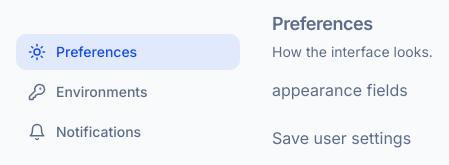
SettingsLayout › switches sections on click
The width and height of the screenshot is (449, 165).
Step 1. Click the button "Environments" → (128, 92), box 16,74 -> 240,110
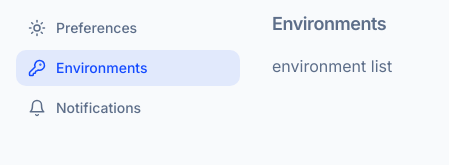
Expected: the text "environment list" is shown, 272,56 -> 392,76
Expected: the text "appearance fields" is gone
